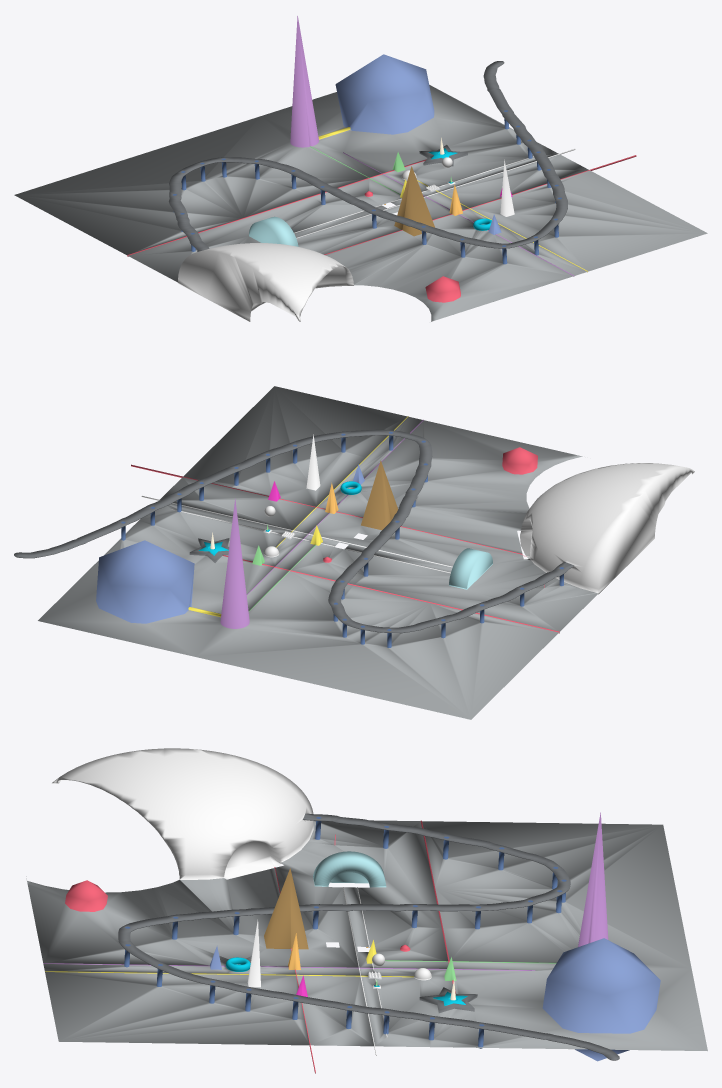
File: MainMesh.gltf
The picture shows the model from 3 angles, top to bottom: view 1: azimuth 30°, elevation 25°; view 2: azimuth 150°, elevation 25°; view 3: azimuth 270°, elevation 25°; orthographic projection. The views are drawn at different scales.
Visible parts, largest first — view 1: obj_0; view 2: obj_0; view 3: obj_0.
Boxes of the visible parts, left/top/right/bottom form: obj_0: left=14, top=16, right=707, bottom=321; obj_0: left=14, top=386, right=694, bottom=719; obj_0: left=26, top=748, right=707, bottom=1073.
Size of the model in its own units: 1021 by 333 by 1062.
